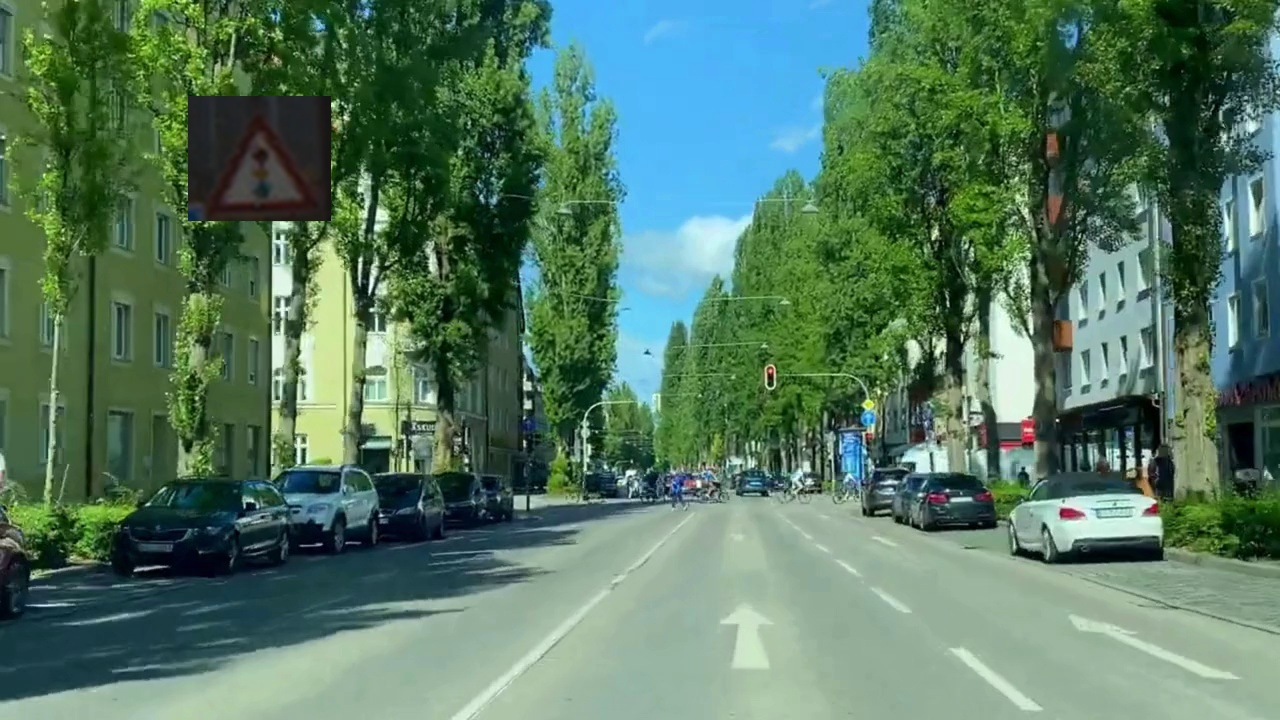Signals: (188, 96, 331, 221)
